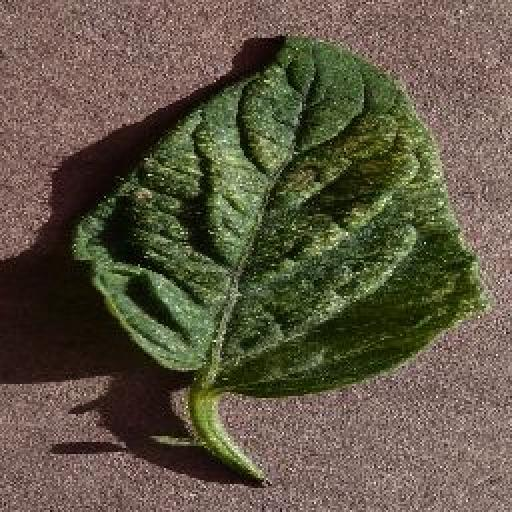disease_tomato: (70, 32, 486, 402)
